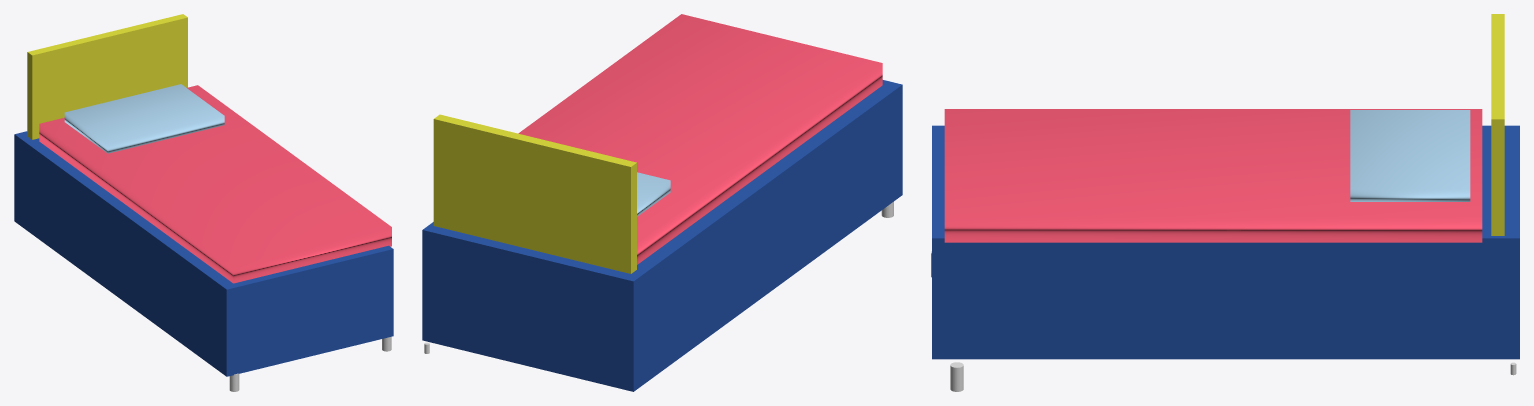
File: bed.glb
3 renders of one model, left to right at view 1: azimuth 30°, elevation 25°; view 2: azimuth 150°, elevation 25°; view 3: azimuth 270°, elevation 25°, orthographic. The views are drawn at different scales.
Visible parts, largest first — view 1: Cube, Cube.001, Cube.004, Cube.003; view 2: Cube, Cube.001, Cube.004, Cube.003; view 3: Cube, Cube.001, Cube.003, Cube.004.
Part boxes in pixels (<box>): Cube: <box>14,131,393,376</box>; Cube.001: <box>39,85,391,283</box>; Cube.004: <box>27,14,187,139</box>; Cube.003: <box>64,84,224,153</box>; Cube: <box>422,80,902,391</box>; Cube.001: <box>518,14,882,264</box>; Cube.004: <box>433,114,636,273</box>; Cube.003: <box>637,172,670,216</box>; Cube: <box>932,125,1519,359</box>; Cube.001: <box>944,109,1482,242</box>; Cube.003: <box>1350,110,1470,201</box>; Cube.004: <box>1491,14,1504,235</box>.
Bounding box in the file's own units: 4.93 × 5.22 × 10.48.
